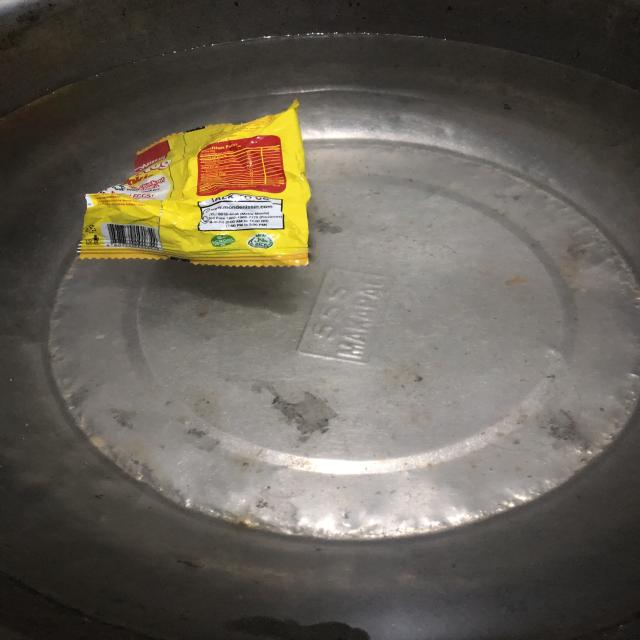Plastic Wrapper: (57, 97, 333, 270)
